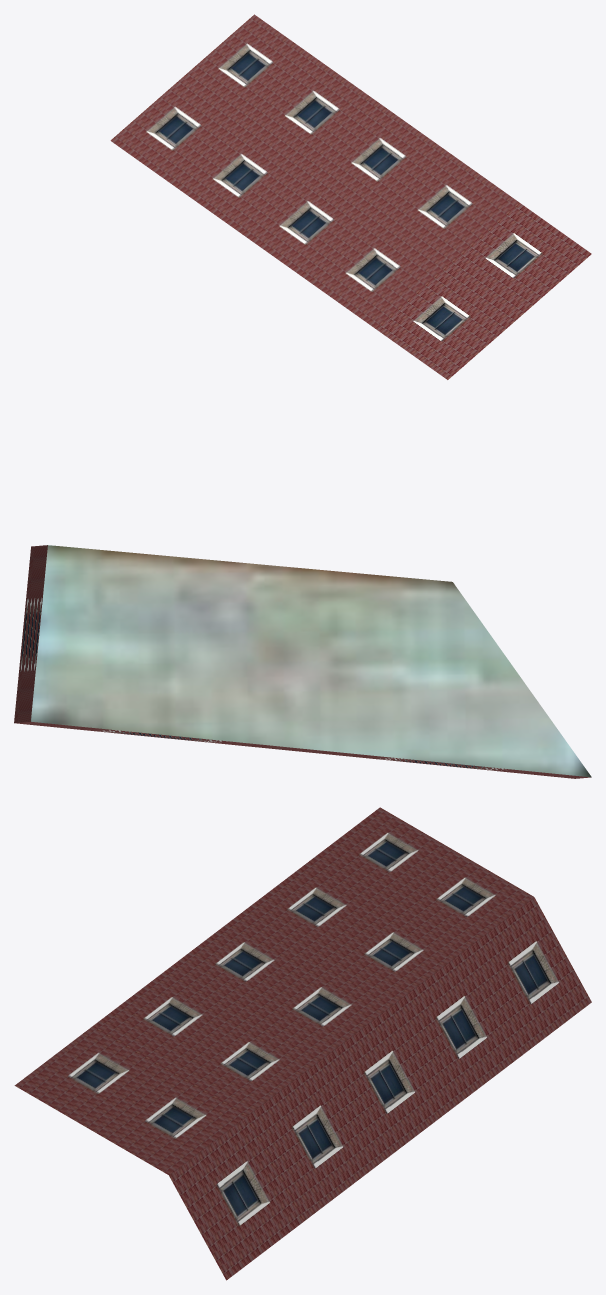
3 views of the same model, one above another, from view 1: azimuth 30°, elevation 25°; view 2: azimuth 150°, elevation 25°; view 3: azimuth 270°, elevation 25° (orthographic). The views are drawn at different scales.
Size of the model in its own units: 20.5 by 12.12 by 18.89.
Materials: 2 (2 with a texture image).
